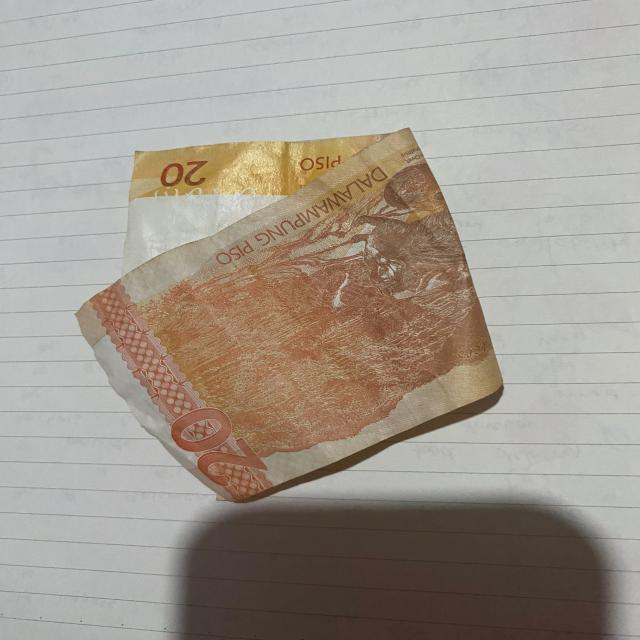see_through_mark: (142, 178, 287, 202)
value: (159, 402, 273, 498)
